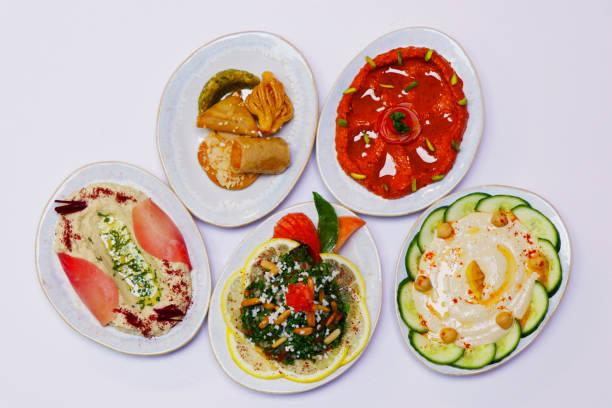Braised Crucian Carp: (33, 160, 212, 358), (393, 184, 571, 379), (207, 200, 380, 397), (156, 30, 316, 230), (316, 26, 481, 219)
